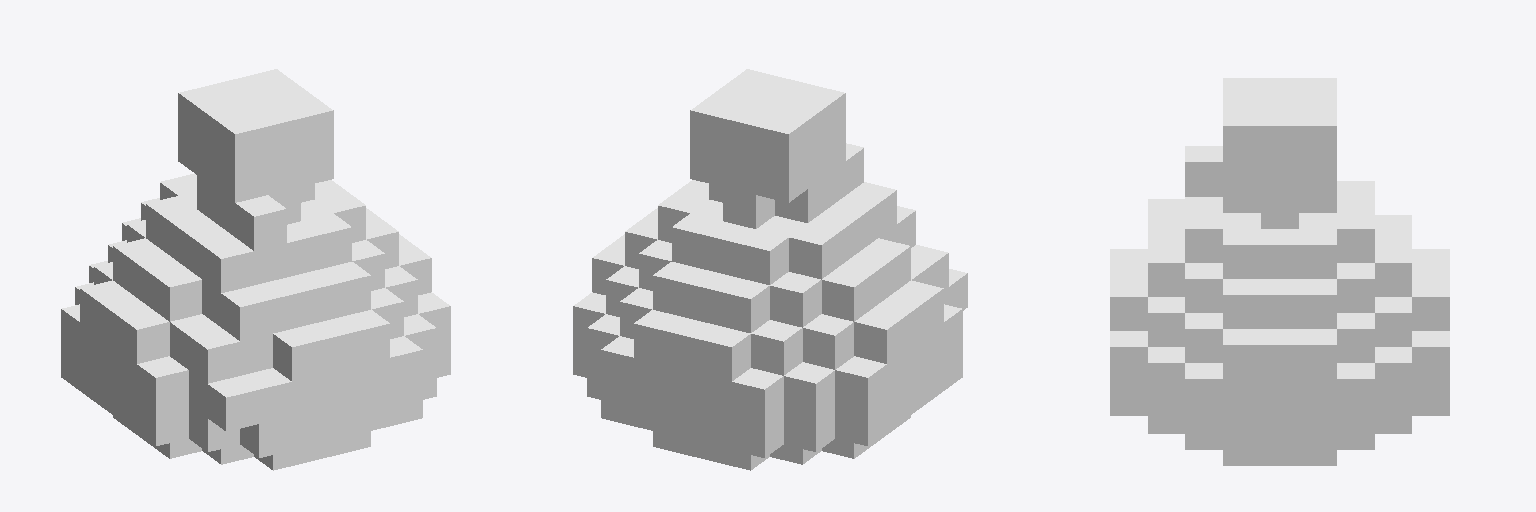
Rendered from LootBag.obj.
The picture shows the model from 3 angles: view 1: azimuth 30°, elevation 25°; view 2: azimuth 150°, elevation 25°; view 3: azimuth 270°, elevation 25°; orthographic projection.
Visible parts, largest first — view 1: object 1; view 2: object 1; view 3: object 1.
Boxes of the visible parts, <box> form: object 1: <box>61,69,450,470</box>; object 1: <box>573,69,967,470</box>; object 1: <box>1110,78,1449,465</box>.
Bounding box in the file's own units: 0.9 × 0.9 × 0.9.